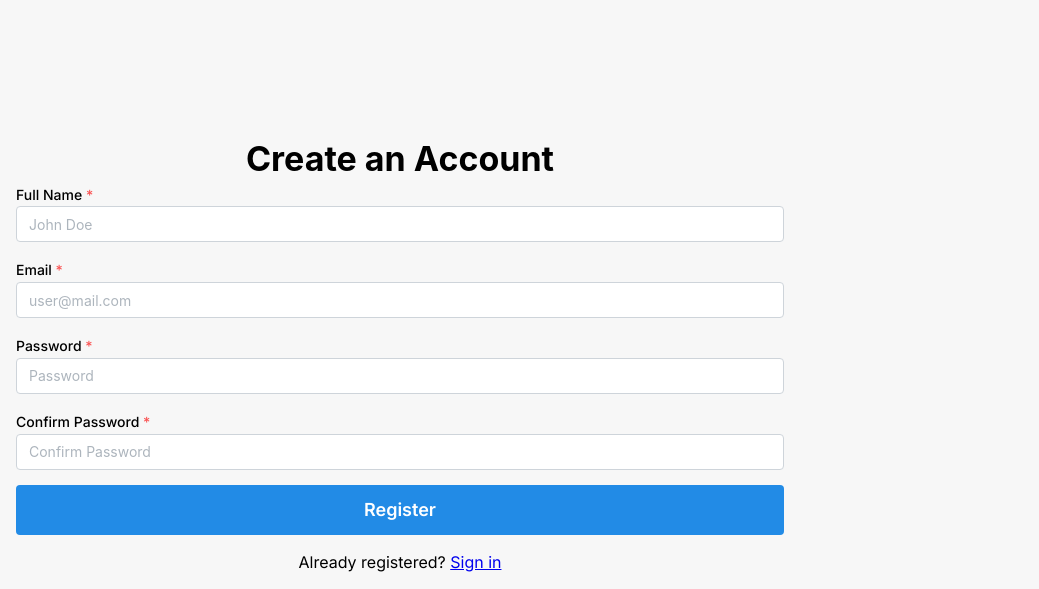
Test: Registration Page › should show a banner with error message when email is already registered
In the field named "name": (400,224) x1=16 y1=206 x2=784 y2=242, type "Test User"
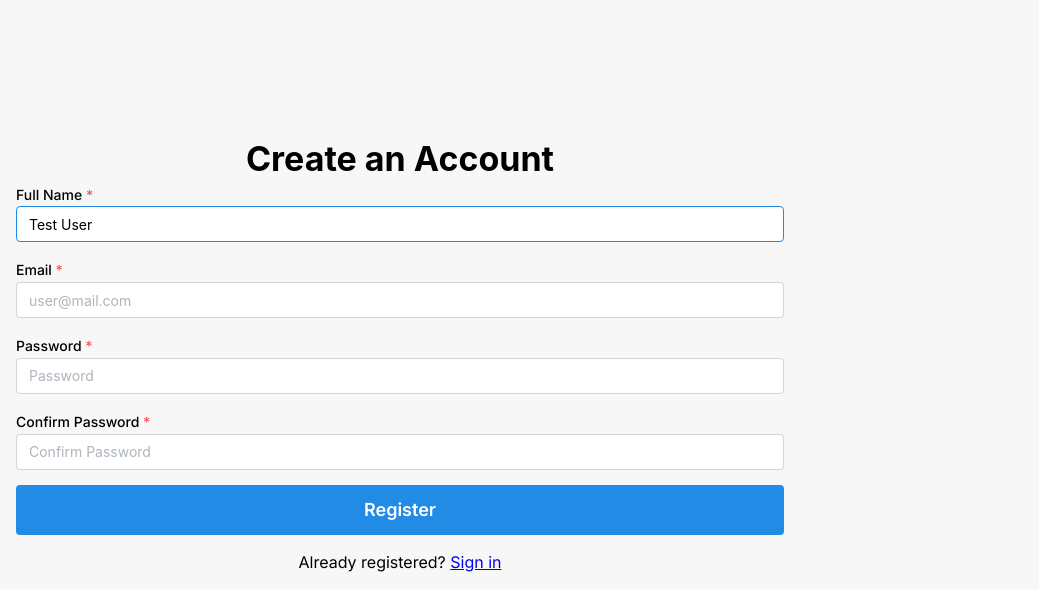
In the field named "email": (400,300) x1=16 y1=282 x2=784 y2=318, type "test@example.com"
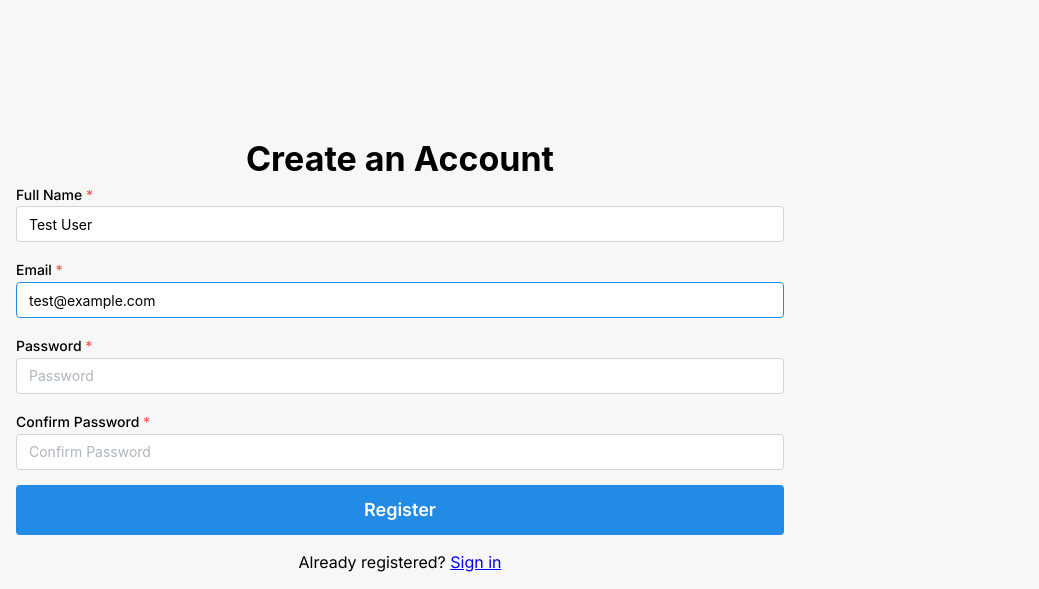
In the password field named "password": (400,376) x1=16 y1=358 x2=784 y2=394, type "password123"
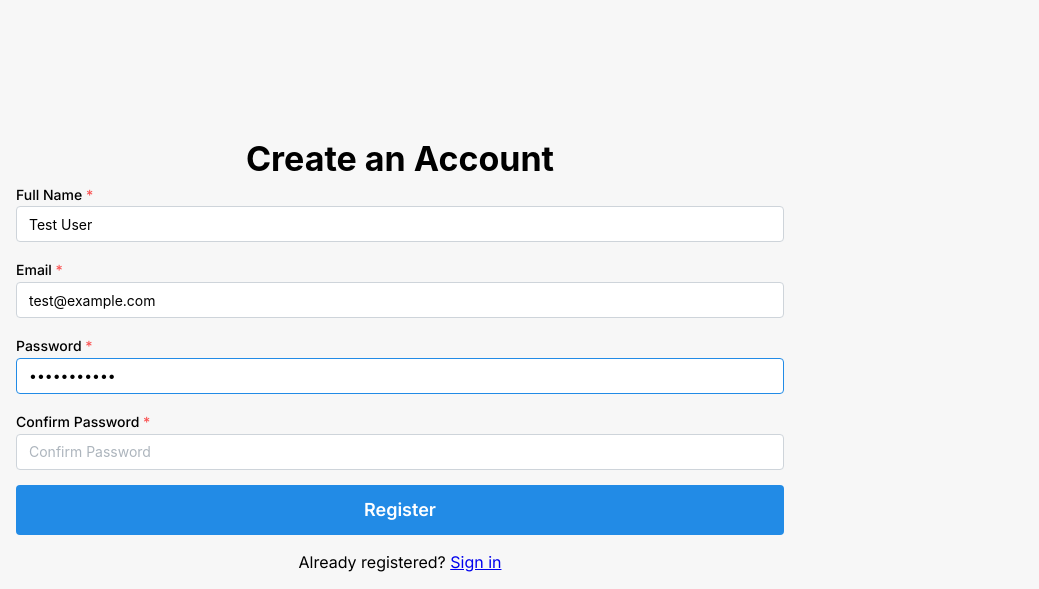
In the password field named "confirmPassword": (400,452) x1=16 y1=434 x2=784 y2=470, type "password123"
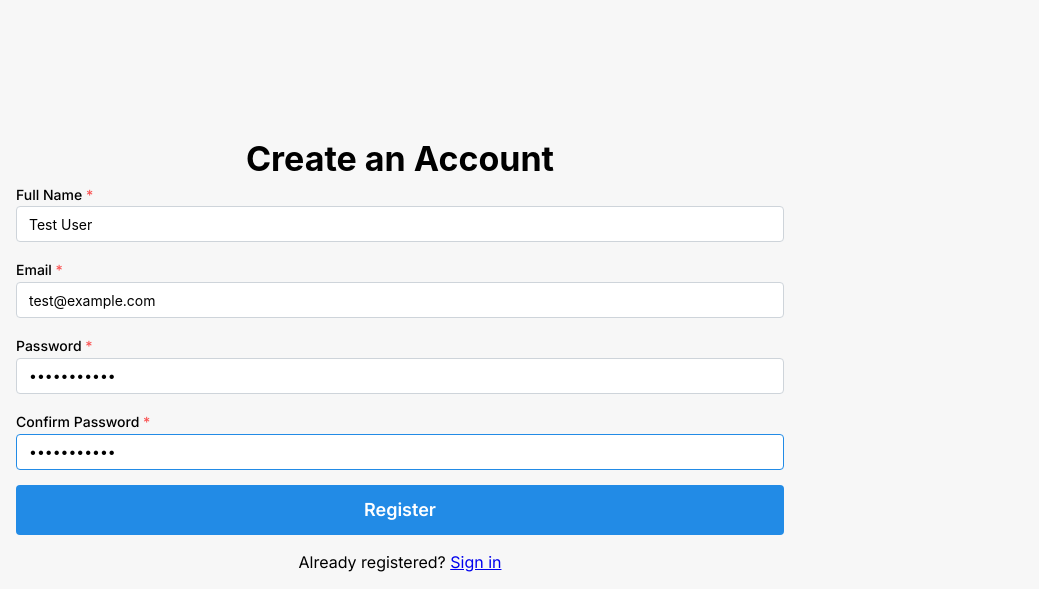
Click the submit button: (400,510) x1=16 y1=485 x2=784 y2=535
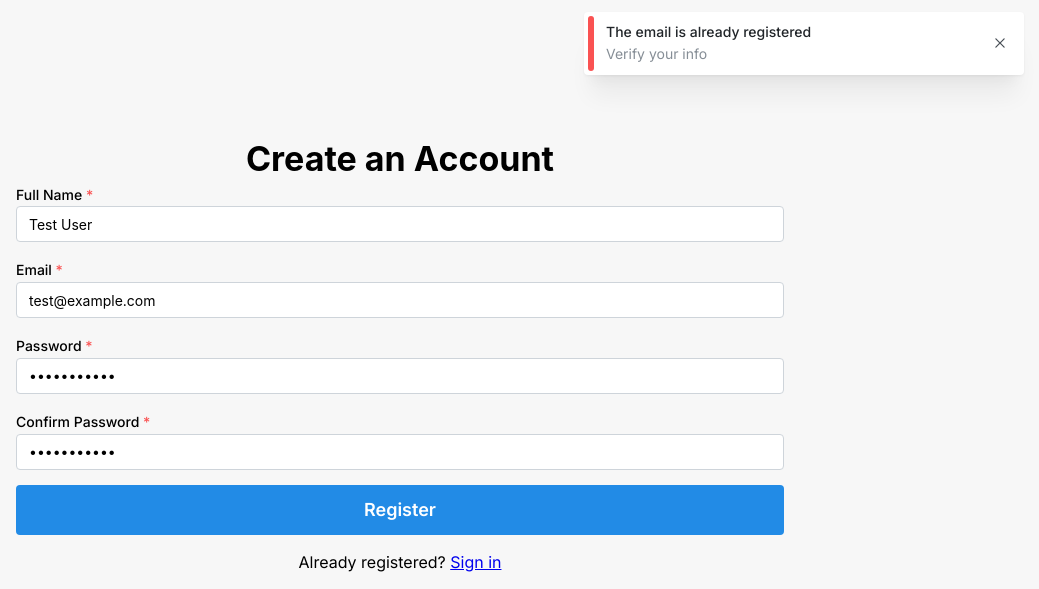
expect the text "The email is already registered" is shown: met, box x1=606 y1=23 x2=811 y2=40
expect the text "Verify your info" is shown: met, box x1=606 y1=45 x2=707 y2=62
